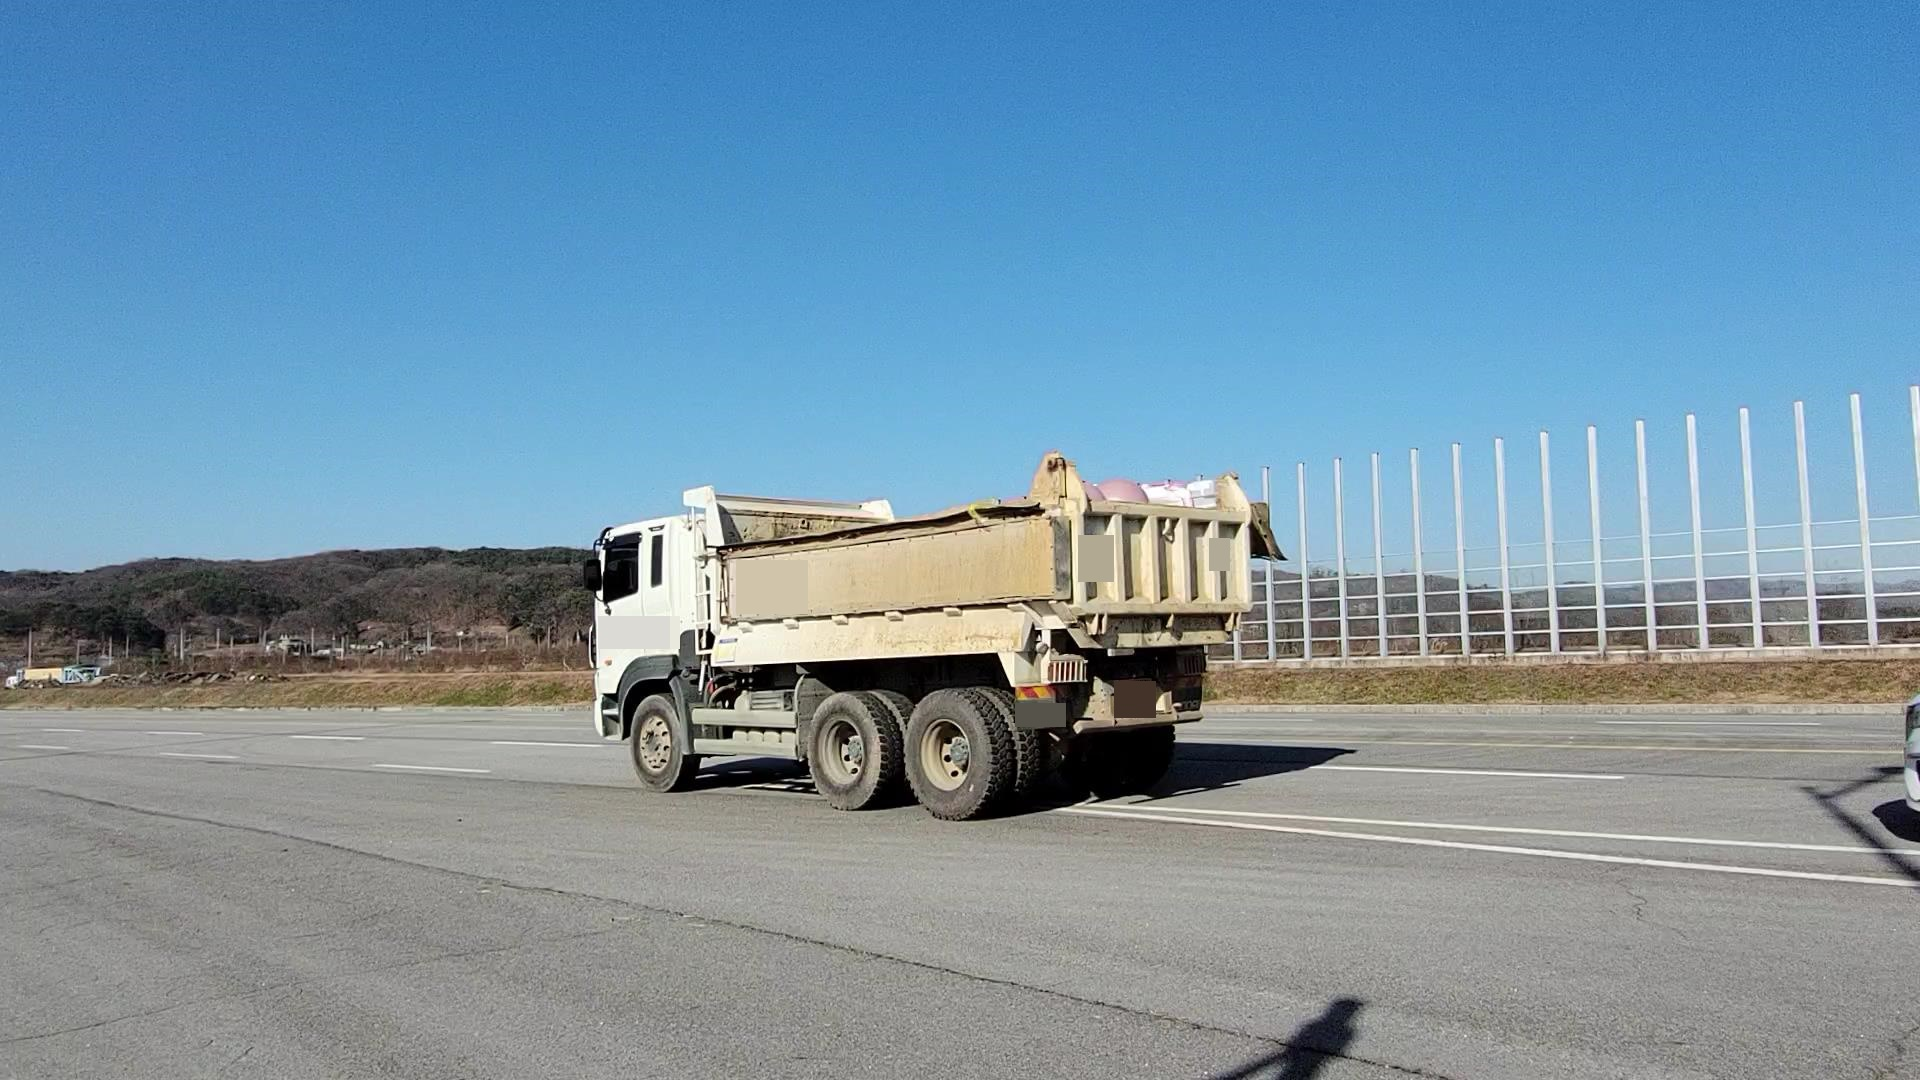불법차량: (582, 450, 1288, 822)
